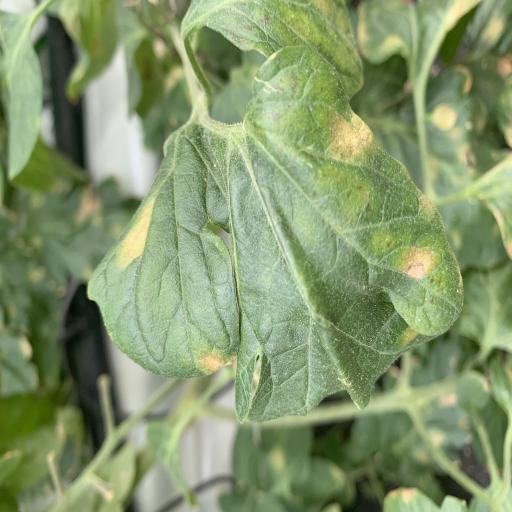disease_tomato: (87, 46, 465, 425)
